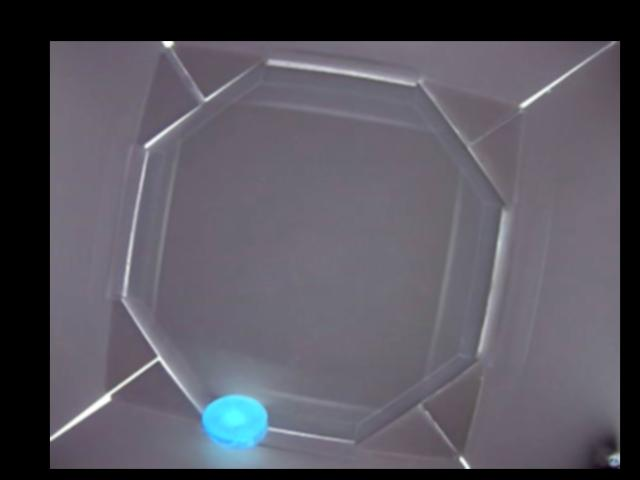Carrot: (202, 394, 268, 447)
